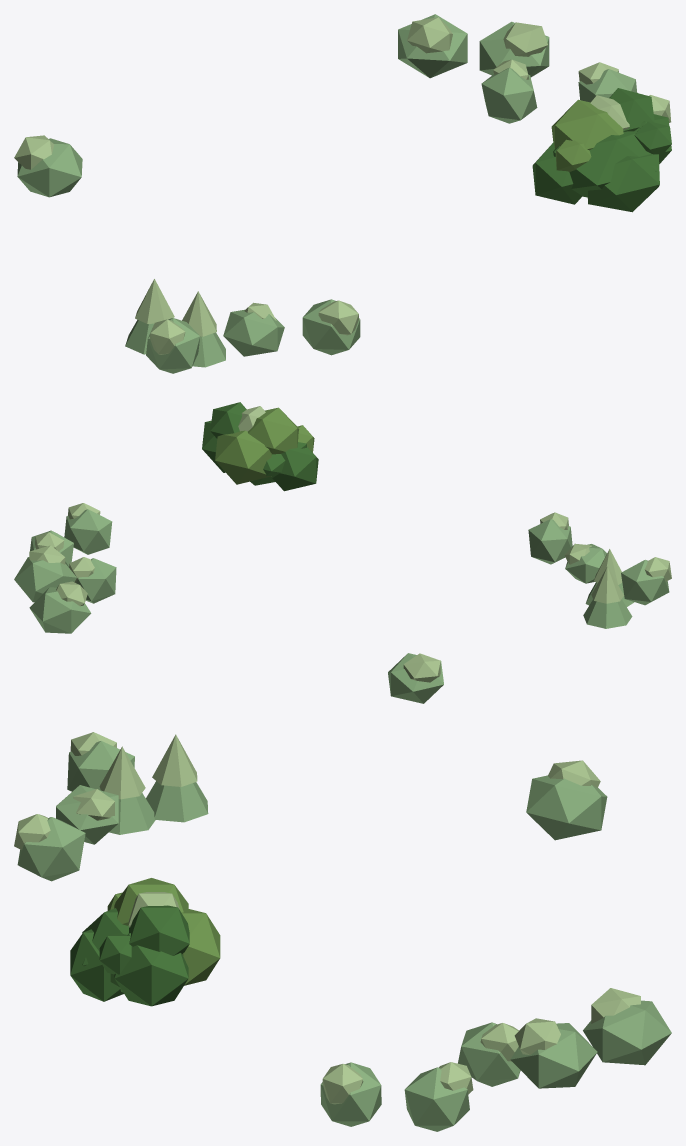
The model's file is ancient_oak_wind_canopies.fbx.
3 views of the same model, one above another, from view 1: azimuth 30°, elevation 25°; view 2: azimuth 150°, elevation 25°; view 3: azimuth 270°, elevation 25° (orthographic). The views are drawn at different scales.
Visible parts, largest first — view 1: chunk_ancient_oak__tree_canopy_13, chunk_ancient_oak__tree_canopy_09, chunk_ancient_oak__tree_canopy_17, chunk_ancient_oak__tree_canopy_16, chunk_ancient_oak__tree_canopy_08, chunk_ancient_oak__tree_canopy_19, chunk_ancient_oak__tree_canopy_11, chunk_ancient_oak__tree_canopy_02, chunk_ancient_oak__tree_canopy_15, chunk_ancient_oak__tree_canopy_20, chunk_ancient_oak__tree_canopy_23, chunk_ancient_oak__tree_canopy_04 (+7 smaller); view 2: chunk_ancient_oak__tree_canopy_13, chunk_ancient_oak__tree_canopy_16, chunk_ancient_oak__tree_canopy_21, chunk_ancient_oak__tree_canopy_19, chunk_ancient_oak__tree_canopy_11, chunk_ancient_oak__tree_canopy_09, chunk_ancient_oak__tree_canopy_02, chunk_ancient_oak__tree_canopy_17, chunk_ancient_oak__tree_canopy_03, chunk_ancient_oak__tree_canopy_08, chunk_ancient_oak__tree_canopy_07, chunk_ancient_oak__tree_canopy_04 (+4 smaller); view 3: chunk_ancient_oak__tree_canopy_13, chunk_ancient_oak__tree_canopy_09, chunk_ancient_oak__tree_canopy_16, chunk_ancient_oak__tree_canopy_19, chunk_ancient_oak__tree_canopy_23, chunk_ancient_oak__tree_canopy_11, chunk_ancient_oak__tree_canopy_17, chunk_ancient_oak__tree_canopy_21, chunk_ancient_oak__tree_canopy_03, chunk_ancient_oak__tree_canopy_02, chunk_ancient_oak__tree_canopy_08, chunk_ancient_oak__tree_canopy_04 (+11 smaller).
Boxes of the visible parts, left/top/right/bottom form: chunk_ancient_oak__tree_canopy_13: left=532, top=88, right=671, bottom=212; chunk_ancient_oak__tree_canopy_09: left=17, top=138, right=82, bottom=197; chunk_ancient_oak__tree_canopy_17: left=481, top=67, right=537, bottom=123; chunk_ancient_oak__tree_canopy_16: left=398, top=14, right=467, bottom=78; chunk_ancient_oak__tree_canopy_08: left=223, top=309, right=284, bottom=356; chunk_ancient_oak__tree_canopy_19: left=479, top=21, right=549, bottom=77; chunk_ancient_oak__tree_canopy_11: left=302, top=299, right=360, bottom=355; chunk_ancient_oak__tree_canopy_02: left=146, top=318, right=199, bottom=373; chunk_ancient_oak__tree_canopy_15: left=407, top=17, right=452, bottom=53; chunk_ancient_oak__tree_canopy_20: left=503, top=22, right=547, bottom=56; chunk_ancient_oak__tree_canopy_23: left=578, top=69, right=637, bottom=102; chunk_ancient_oak__tree_canopy_04: left=135, top=279, right=174, bottom=323; chunk_ancient_oak__tree_canopy_13: left=202, top=402, right=318, bottom=491; chunk_ancient_oak__tree_canopy_16: left=29, top=587, right=91, bottom=633; chunk_ancient_oak__tree_canopy_21: left=64, top=509, right=112, bottom=554; chunk_ancient_oak__tree_canopy_19: left=14, top=557, right=76, bottom=602; chunk_ancient_oak__tree_canopy_11: left=528, top=519, right=572, bottom=564; chunk_ancient_oak__tree_canopy_09: left=388, top=653, right=443, bottom=703; chunk_ancient_oak__tree_canopy_02: left=621, top=559, right=669, bottom=605; chunk_ancient_oak__tree_canopy_17: left=76, top=558, right=116, bottom=603; chunk_ancient_oak__tree_canopy_03: left=583, top=599, right=632, bottom=628; chunk_ancient_oak__tree_canopy_08: left=565, top=544, right=606, bottom=583; chunk_ancient_oak__tree_canopy_07: left=403, top=653, right=440, bottom=682; chunk_ancient_oak__tree_canopy_04: left=591, top=566, right=623, bottom=603; chunk_ancient_oak__tree_canopy_13: left=70, top=878, right=220, bottom=1006; chunk_ancient_oak__tree_canopy_09: left=526, top=775, right=607, bottom=840; chunk_ancient_oak__tree_canopy_16: left=583, top=1000, right=671, bottom=1065; chunk_ancient_oak__tree_canopy_19: left=510, top=1023, right=597, bottom=1088; chunk_ancient_oak__tree_canopy_23: left=404, top=1067, right=469, bottom=1131; chunk_ancient_oak__tree_canopy_11: left=17, top=817, right=85, bottom=881; chunk_ancient_oak__tree_canopy_17: left=458, top=1022, right=520, bottom=1086; chunk_ancient_oak__tree_canopy_21: left=320, top=1062, right=381, bottom=1126; chunk_ancient_oak__tree_canopy_03: left=146, top=781, right=208, bottom=822; chunk_ancient_oak__tree_canopy_02: left=67, top=741, right=134, bottom=791; chunk_ancient_oak__tree_canopy_08: left=56, top=785, right=118, bottom=844; chunk_ancient_oak__tree_canopy_04: left=152, top=734, right=197, bottom=786.
Bounding box in the file's own units: 213 × 46.67 × 166.
